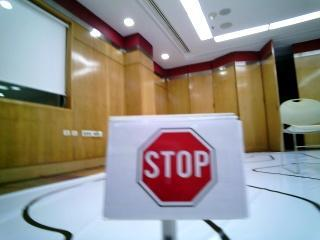stop: (104, 116, 234, 211)
